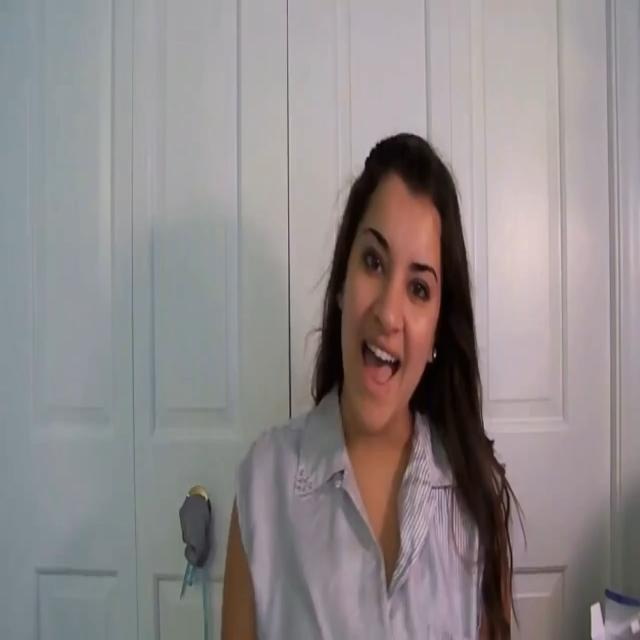Shirt: (234, 385, 490, 640)
